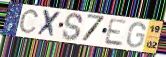7: (81, 13, 106, 44)
C: (18, 9, 40, 34)
E: (103, 18, 129, 48)
G: (125, 22, 147, 49)
S: (61, 12, 85, 42)
X: (35, 8, 63, 40)
